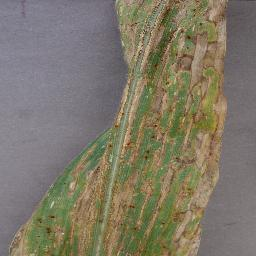Gray_Leaf_Spot: (104, 0, 231, 256), (8, 173, 105, 256), (62, 131, 106, 172)
